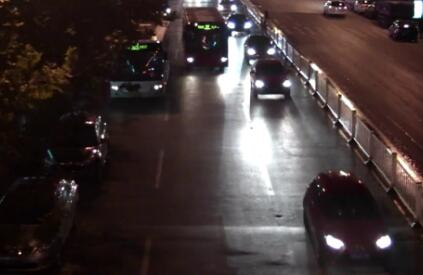bus: (106, 14, 170, 101), (178, 2, 230, 71)
car: (299, 169, 397, 264), (0, 175, 80, 269), (42, 110, 115, 171), (247, 60, 295, 101), (239, 35, 283, 64), (224, 11, 254, 35), (320, 0, 350, 21), (215, 1, 242, 13)
